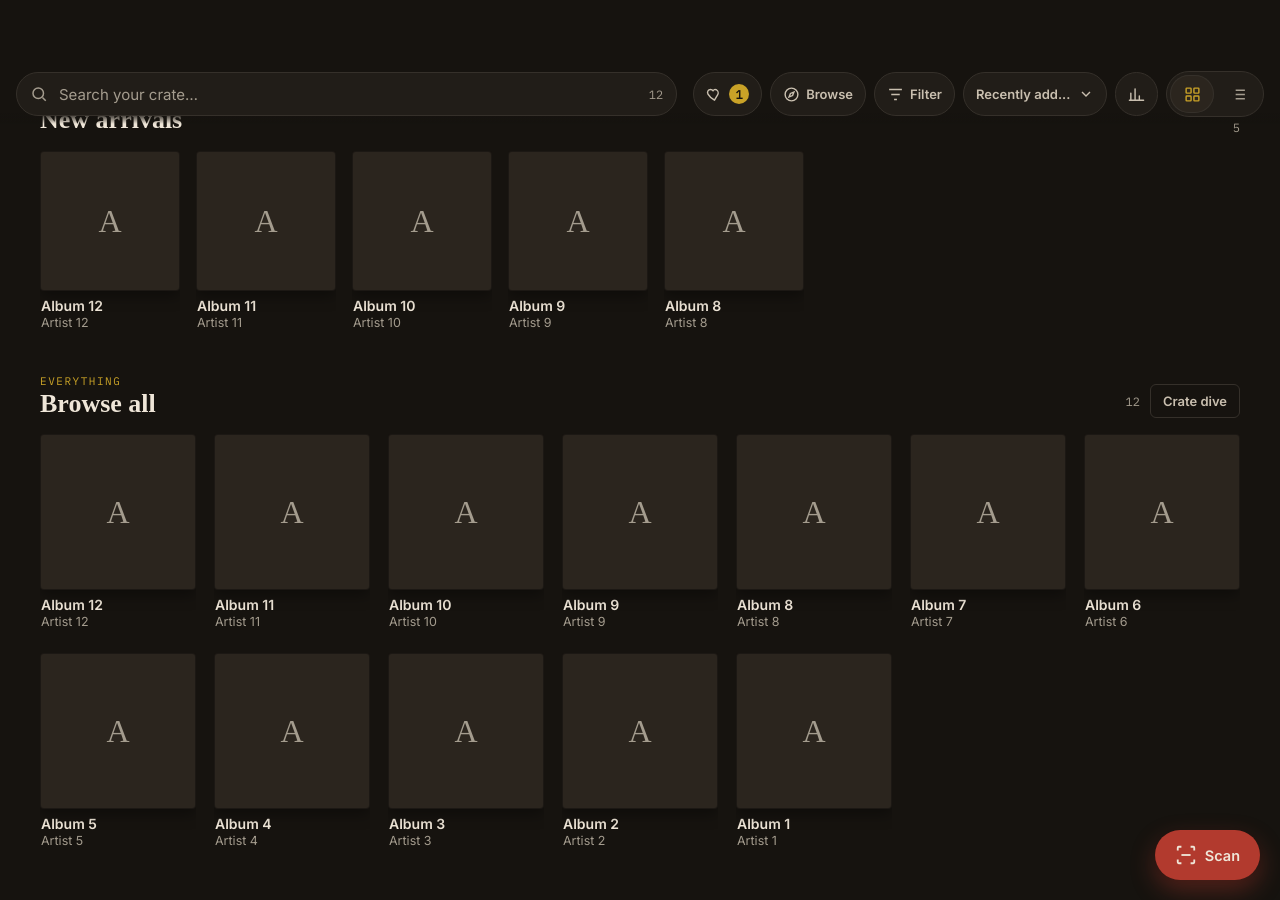
Test: CollectionView — Smart views & stats (§ Phase 5) › converts a wishlist want into an owned item — it lands on the shelf
Expected: the heading "Browse all" is shown, x1=40 y1=390 x2=156 y2=418
Click the button named "Wishlist" at (728, 94), box x1=693 y1=72 x2=762 y2=116
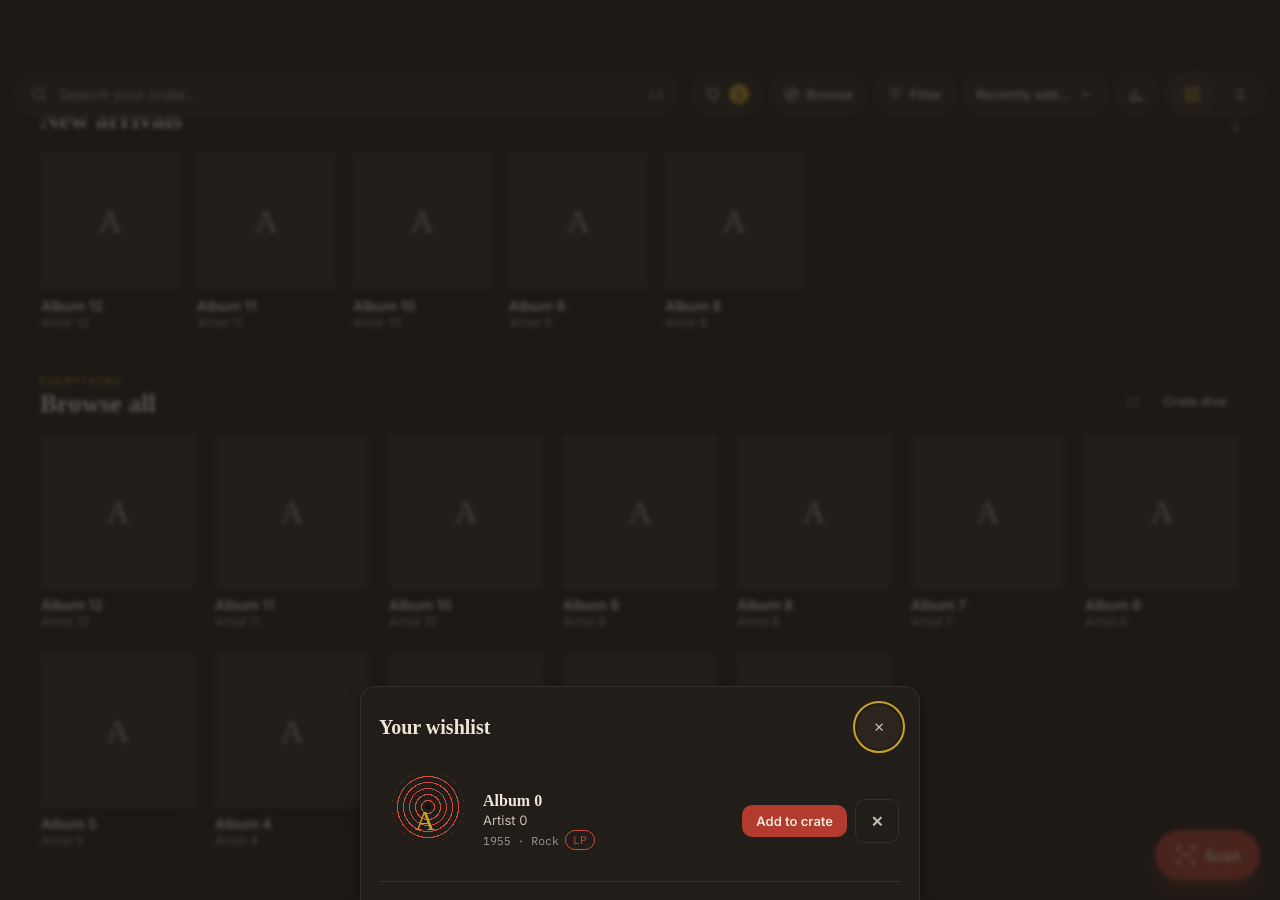
Click the button "Add to crate" at (795, 821), box x1=742 y1=805 x2=847 y2=837
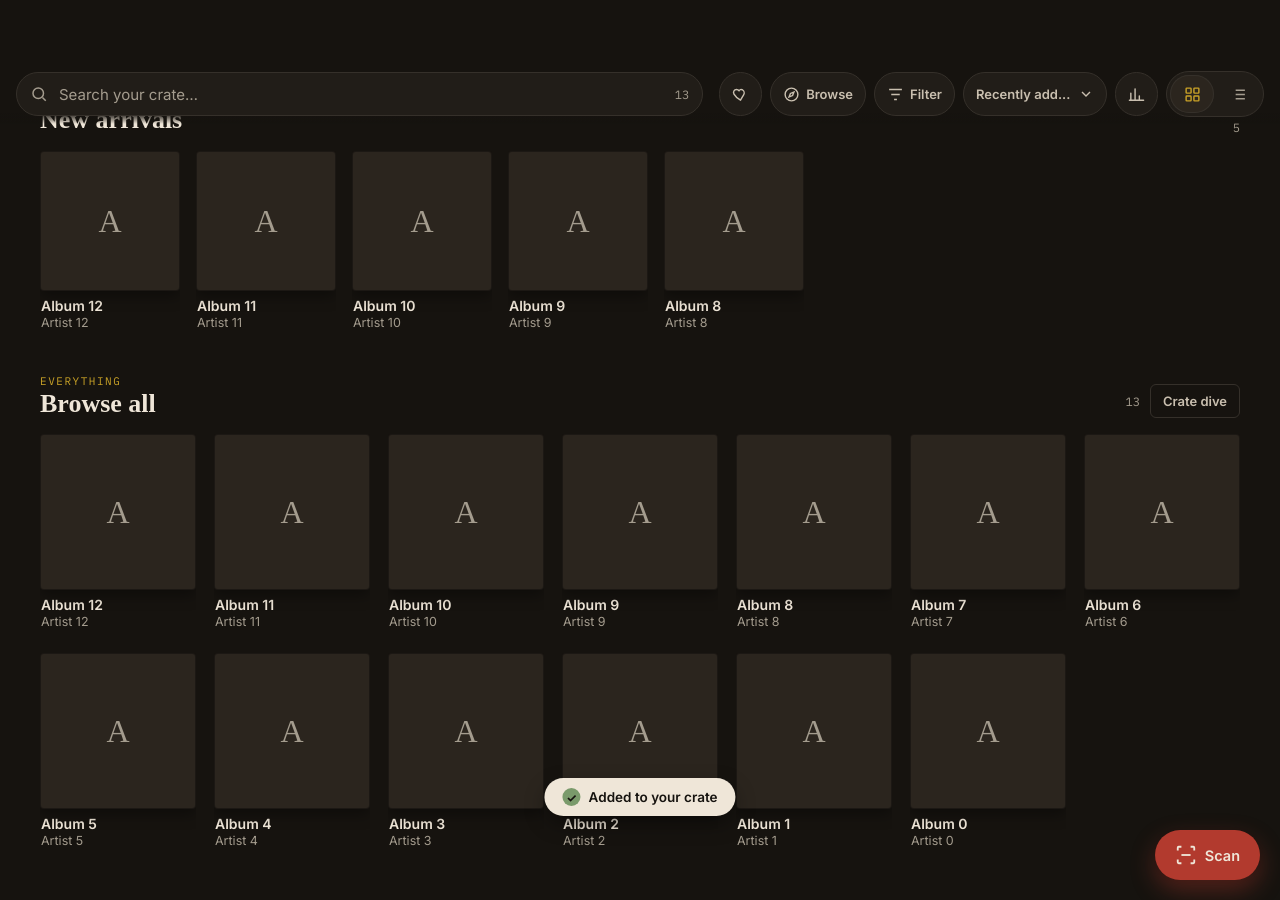
Expected: the heading "Your wishlist" is gone
